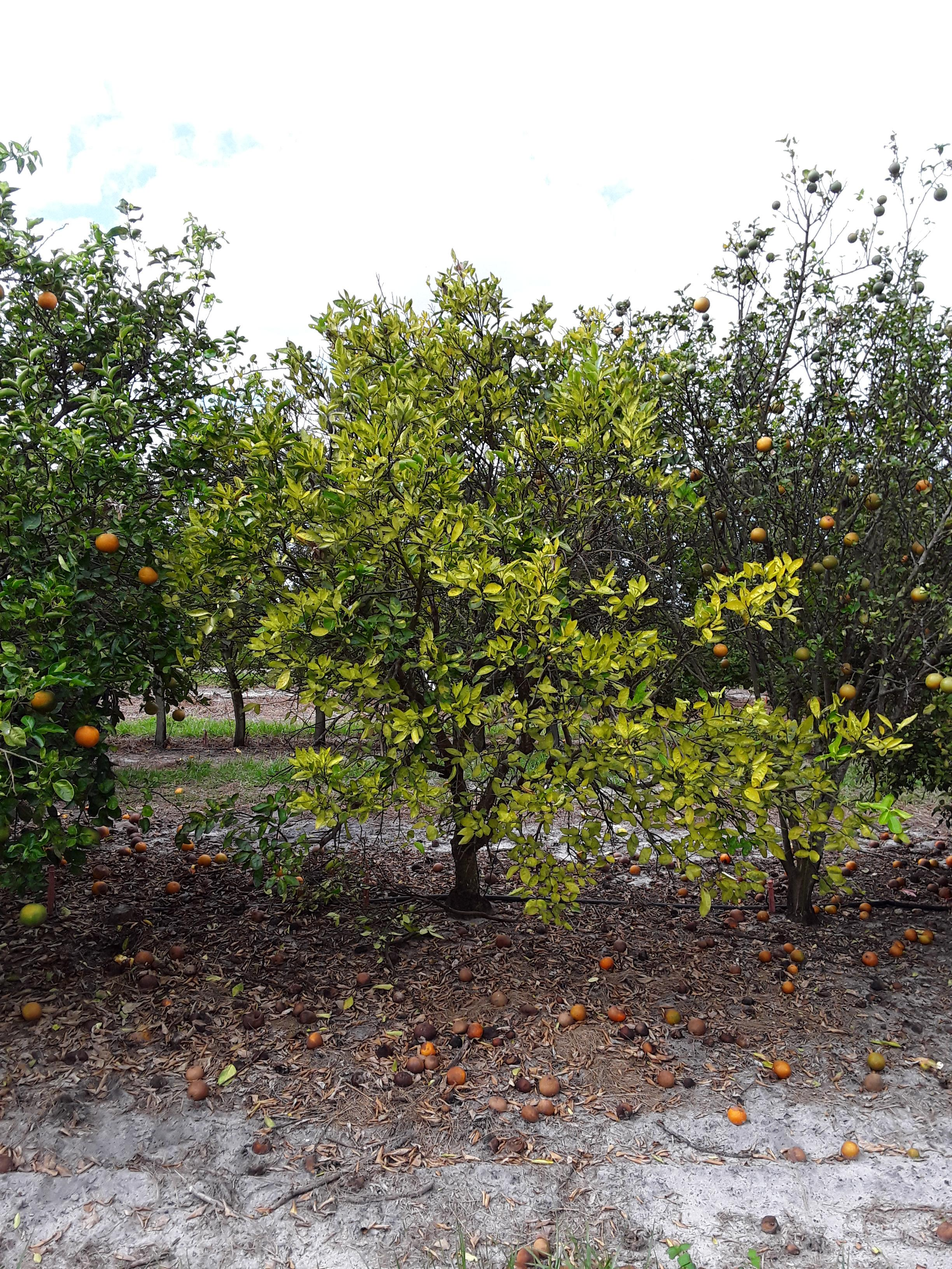fruit_on_ground: (75, 724, 105, 752), (92, 531, 123, 556), (30, 689, 58, 715), (0, 815, 18, 849), (38, 287, 60, 312), (137, 564, 161, 586), (819, 550, 841, 571), (923, 669, 945, 689), (838, 682, 858, 704), (766, 397, 788, 416), (908, 586, 931, 604), (749, 525, 770, 544), (865, 491, 883, 511), (856, 610, 878, 626), (793, 644, 813, 661), (807, 559, 829, 574), (695, 297, 710, 319), (754, 435, 772, 453), (777, 436, 795, 454), (843, 470, 863, 486), (912, 537, 928, 557), (697, 561, 717, 577), (710, 642, 730, 658), (753, 400, 775, 414), (938, 672, 952, 694), (772, 479, 790, 496), (713, 505, 730, 523), (144, 700, 161, 718), (697, 293, 713, 312), (172, 706, 188, 724), (838, 660, 858, 674), (818, 514, 834, 531), (844, 531, 859, 549), (915, 480, 934, 494), (717, 559, 733, 575), (806, 168, 822, 184), (933, 185, 948, 202), (911, 278, 928, 293), (702, 414, 720, 428), (693, 295, 707, 313), (830, 178, 845, 194), (750, 226, 766, 241), (889, 159, 903, 175), (736, 245, 752, 259), (870, 251, 886, 265), (880, 269, 896, 283), (856, 576, 873, 589), (163, 674, 180, 687), (687, 468, 705, 480), (72, 360, 87, 374), (659, 371, 674, 385), (808, 351, 825, 363), (847, 231, 861, 245), (839, 594, 856, 605), (873, 280, 887, 293), (873, 205, 888, 217), (719, 656, 731, 670), (874, 192, 889, 203), (873, 293, 888, 304), (746, 239, 762, 249), (770, 199, 783, 211), (845, 409, 859, 420), (683, 363, 700, 372), (762, 252, 777, 262), (613, 308, 627, 318), (622, 296, 632, 309), (900, 554, 911, 565), (808, 184, 819, 195), (744, 313, 756, 323), (919, 390, 929, 400), (867, 461, 877, 471), (616, 299, 625, 309)
fruit_on_tree: (185, 1078, 214, 1103), (19, 903, 49, 926), (783, 1141, 808, 1168), (446, 1064, 472, 1089), (864, 1050, 892, 1073), (241, 1009, 269, 1031), (412, 1020, 440, 1042), (862, 1071, 886, 1095), (487, 1092, 512, 1115), (515, 1103, 541, 1125), (540, 1077, 563, 1101), (19, 1000, 41, 1025), (656, 1070, 678, 1095), (606, 1003, 629, 1026), (724, 1103, 746, 1127), (1, 1150, 22, 1175), (662, 1005, 684, 1028), (760, 1213, 781, 1237), (843, 1137, 863, 1162), (532, 1238, 553, 1261), (252, 1133, 272, 1157), (61, 1048, 89, 1065), (133, 949, 158, 968), (373, 1040, 395, 1061), (137, 975, 161, 994), (686, 1017, 710, 1036), (303, 1032, 327, 1051), (613, 1100, 633, 1122), (91, 860, 110, 883), (167, 943, 188, 963), (354, 967, 374, 988), (491, 988, 512, 1008), (555, 1008, 575, 1029), (93, 821, 112, 843), (596, 955, 618, 974), (506, 1134, 525, 1156), (392, 1070, 416, 1087), (903, 1143, 922, 1164), (517, 1245, 536, 1266), (495, 934, 517, 952), (728, 905, 748, 924), (734, 1033, 754, 1052), (421, 1038, 439, 1059), (214, 848, 231, 870), (539, 1096, 558, 1115), (273, 996, 293, 1014), (770, 1058, 788, 1078), (516, 1077, 534, 1097), (468, 1019, 485, 1040), (934, 1224, 951, 1245), (919, 929, 938, 947), (349, 1068, 367, 1087), (482, 1023, 502, 1040), (186, 1064, 207, 1080), (166, 880, 184, 898), (285, 979, 303, 997), (310, 839, 327, 858), (248, 907, 265, 926), (572, 1002, 589, 1021), (404, 1058, 427, 1072), (299, 1009, 319, 1025), (447, 1034, 467, 1050), (519, 1005, 541, 1019), (450, 1021, 472, 1035), (130, 808, 146, 827), (789, 947, 808, 963), (115, 843, 135, 858), (616, 1027, 636, 1042), (457, 965, 474, 982), (634, 1019, 651, 1036), (718, 850, 736, 866), (756, 947, 774, 963), (726, 959, 742, 977), (718, 1028, 734, 1046), (91, 881, 106, 900), (723, 917, 743, 931), (428, 1054, 442, 1074), (679, 1077, 700, 1090), (133, 839, 150, 855), (674, 979, 691, 995), (290, 1000, 306, 1017), (639, 1039, 656, 1055), (905, 1145, 923, 1160), (608, 942, 630, 954), (936, 884, 952, 900), (889, 975, 905, 991), (442, 1089, 458, 1105), (890, 935, 907, 950), (862, 949, 877, 966), (739, 992, 756, 1007), (174, 822, 192, 836), (770, 965, 788, 979), (771, 944, 787, 959), (889, 945, 905, 960), (386, 950, 401, 966), (823, 903, 840, 917), (150, 1075, 167, 1089), (855, 899, 873, 912), (180, 837, 195, 852), (936, 873, 951, 888), (872, 976, 887, 991), (171, 784, 187, 798), (430, 859, 444, 875), (780, 981, 796, 995), (233, 996, 249, 1010), (695, 933, 708, 950), (128, 834, 146, 846), (182, 852, 200, 864), (54, 854, 72, 866), (120, 807, 134, 822), (683, 919, 698, 933), (272, 950, 287, 964), (394, 989, 408, 1004), (911, 1019, 925, 1034), (610, 846, 626, 859), (484, 871, 500, 884), (754, 889, 767, 905), (534, 924, 550, 937), (837, 868, 854, 880), (867, 837, 881, 851), (198, 853, 212, 867), (887, 876, 901, 890), (844, 860, 859, 873), (830, 895, 845, 908), (756, 910, 771, 923), (858, 906, 870, 922), (903, 928, 919, 940), (126, 823, 140, 836), (933, 840, 948, 852), (275, 865, 290, 877), (676, 888, 692, 899), (490, 1038, 509, 1047), (126, 830, 143, 840), (289, 920, 302, 933), (703, 935, 716, 948), (429, 838, 443, 850), (929, 855, 941, 869), (294, 876, 308, 888), (639, 949, 651, 963), (577, 846, 588, 861), (896, 874, 907, 889), (904, 840, 917, 852), (910, 871, 922, 884), (663, 857, 677, 868), (628, 865, 642, 876), (597, 863, 614, 872), (679, 873, 694, 883), (505, 1029, 520, 1039), (927, 884, 939, 896), (893, 831, 906, 842), (918, 858, 931, 869), (600, 919, 610, 933), (892, 858, 904, 869), (811, 902, 822, 914), (878, 831, 891, 841), (737, 874, 750, 884), (202, 879, 215, 889), (526, 948, 536, 961), (632, 853, 644, 863), (621, 855, 633, 865), (947, 854, 952, 867)
